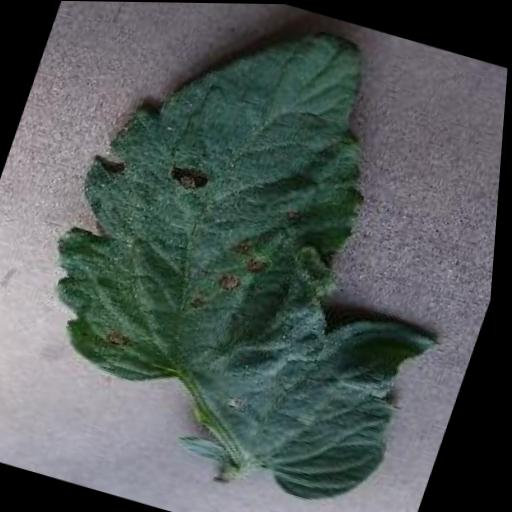Early Blight: (4, 0, 512, 512)
